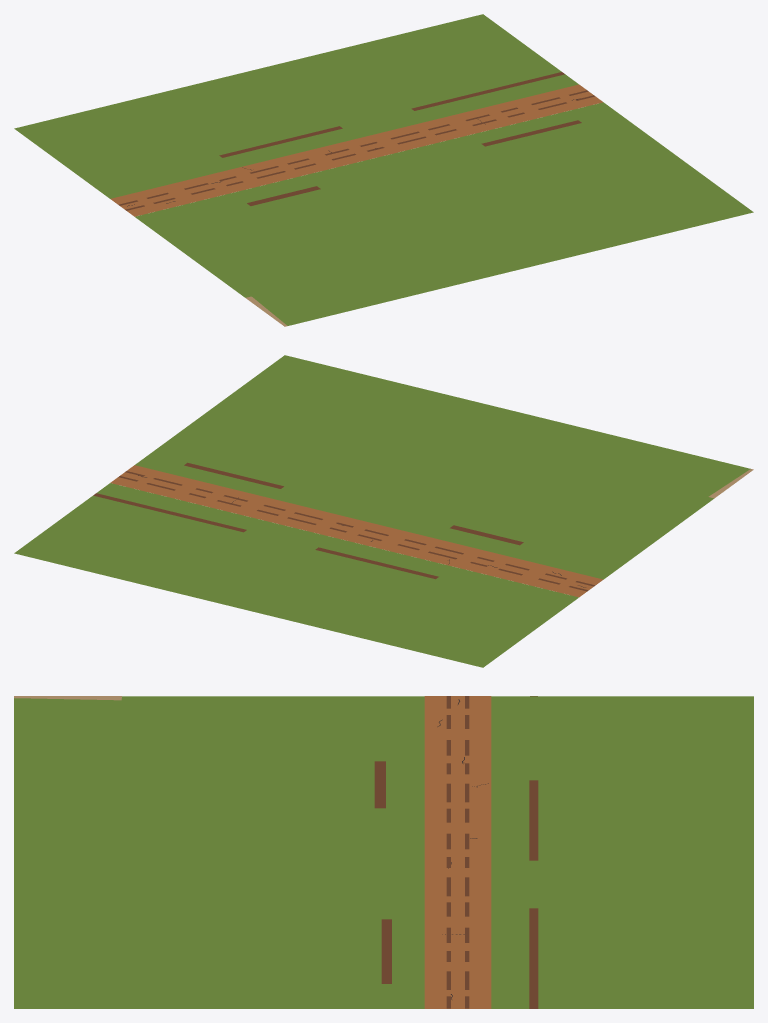
File: crossing-6-6.glb
The picture shows the model from 3 angles, top to bottom: view 1: azimuth 30°, elevation 25°; view 2: azimuth 150°, elevation 25°; view 3: azimuth 270°, elevation 25°; orthographic projection. The views are drawn at different scales.
Parts seen in each view (by area): view 1: crossing-6-6; view 2: crossing-6-6; view 3: crossing-6-6.
Boxes of the visible parts, x1,y1,x2,y2 form: crossing-6-6: (14, 14, 753, 326); crossing-6-6: (14, 355, 753, 667); crossing-6-6: (14, 696, 753, 1008).
Bounding box in the file's own units: 100 × 0.0135 × 100.
